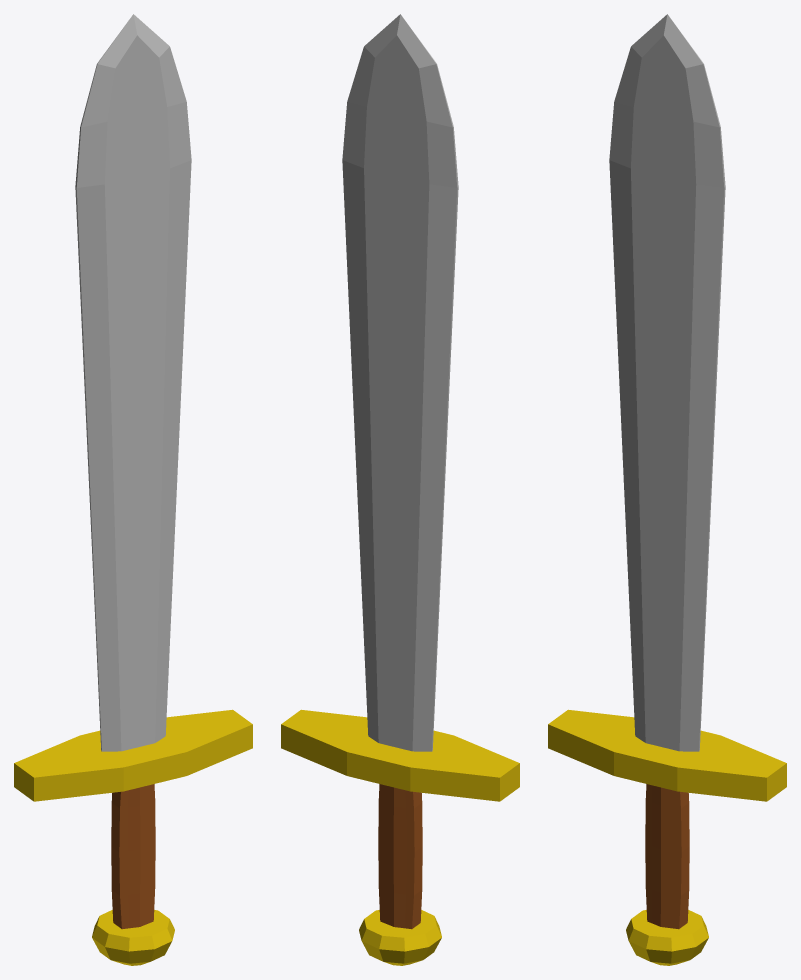
The model's file is sword.fbx.
3 views of the same model, side by side, from view 1: azimuth 30°, elevation 25°; view 2: azimuth 150°, elevation 25°; view 3: azimuth 330°, elevation 25° (orthographic).
Parts seen in each view (by area): view 1: sword; view 2: sword; view 3: sword.
Part boxes in pixels (box(x1,y1,x2,y2)): sword: box(14, 14, 252, 965); sword: box(281, 14, 519, 965); sword: box(548, 14, 786, 965).
Bounding box in the file's own units: 0.2909 × 1.2 × 0.1005.
